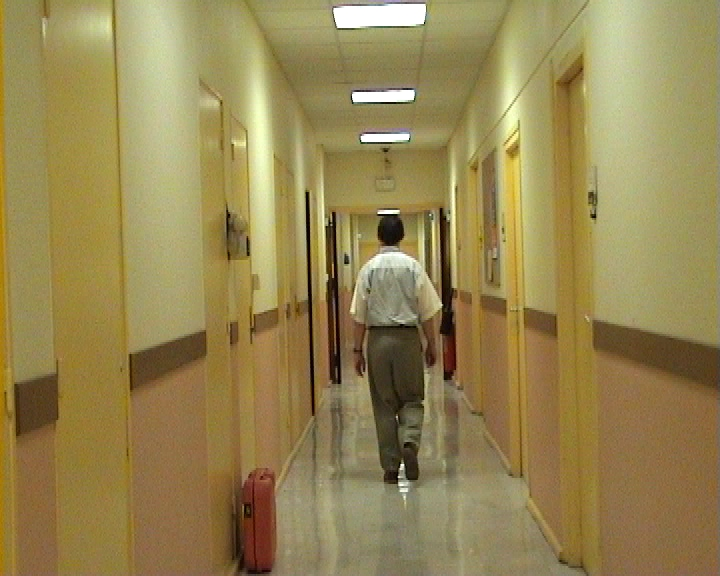leave bag unattended: (209, 451, 296, 576)
